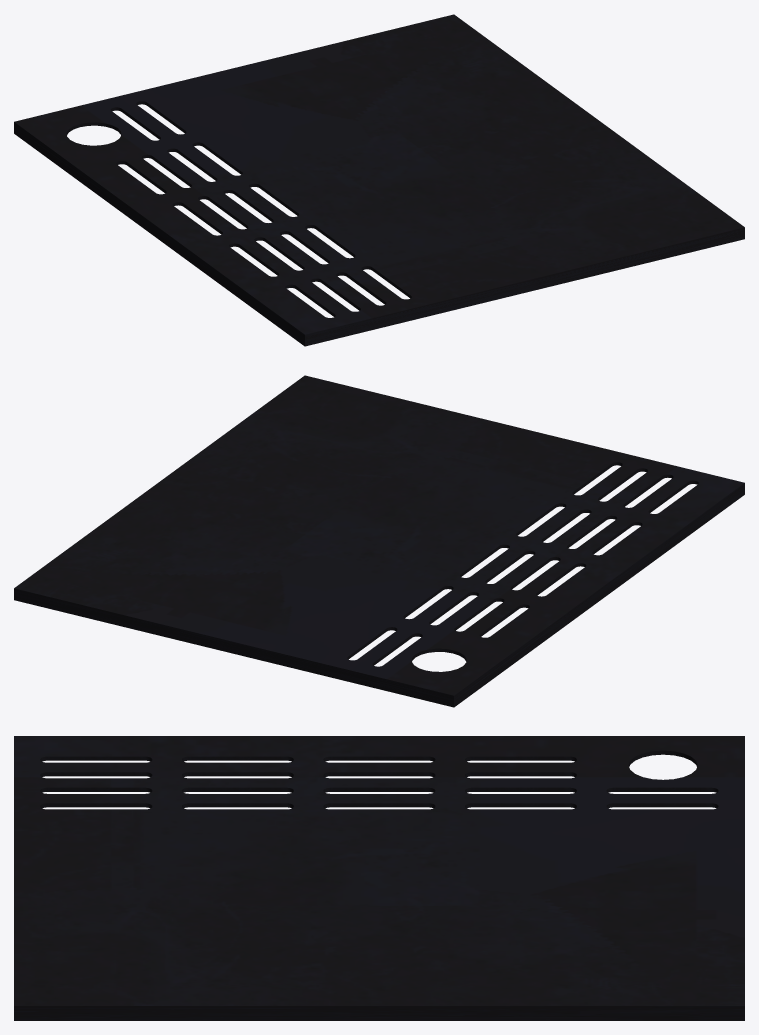
3 renders of one model, top to bottom at view 1: azimuth 30°, elevation 25°; view 2: azimuth 150°, elevation 25°; view 3: azimuth 270°, elevation 25°, orthographic. The views are drawn at different scales.
Visible parts, largest first — view 1: pCube92.001; view 2: pCube92.001; view 3: pCube92.001.
Part boxes in pixels (bbox=[...]): pCube92.001: bbox=[14, 14, 744, 346]; pCube92.001: bbox=[14, 375, 744, 707]; pCube92.001: bbox=[14, 736, 744, 1020].
Bounding box in the file's own units: 47.9 × 1.23 × 54.84.
1 material, 1 textured.
